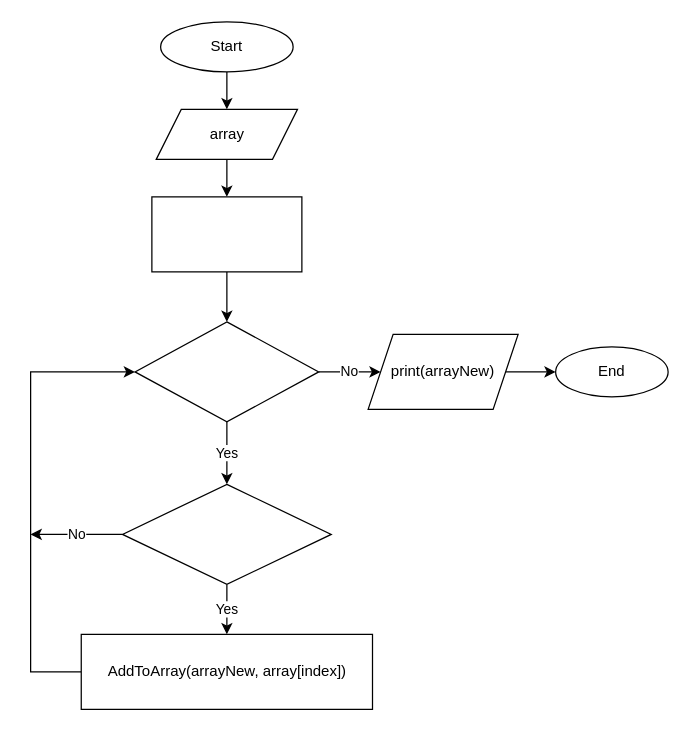
Image size: 690x731. Some labels were removed from this diagram. Here are the shapes that lost their labels. From the top down, the centre of each, then its label:
the point at 226,234: arrayNew[0] countChar = 3 index=0
the point at 226,371: index < array.Lenght()
the point at 226,533: array[index] < countChar
